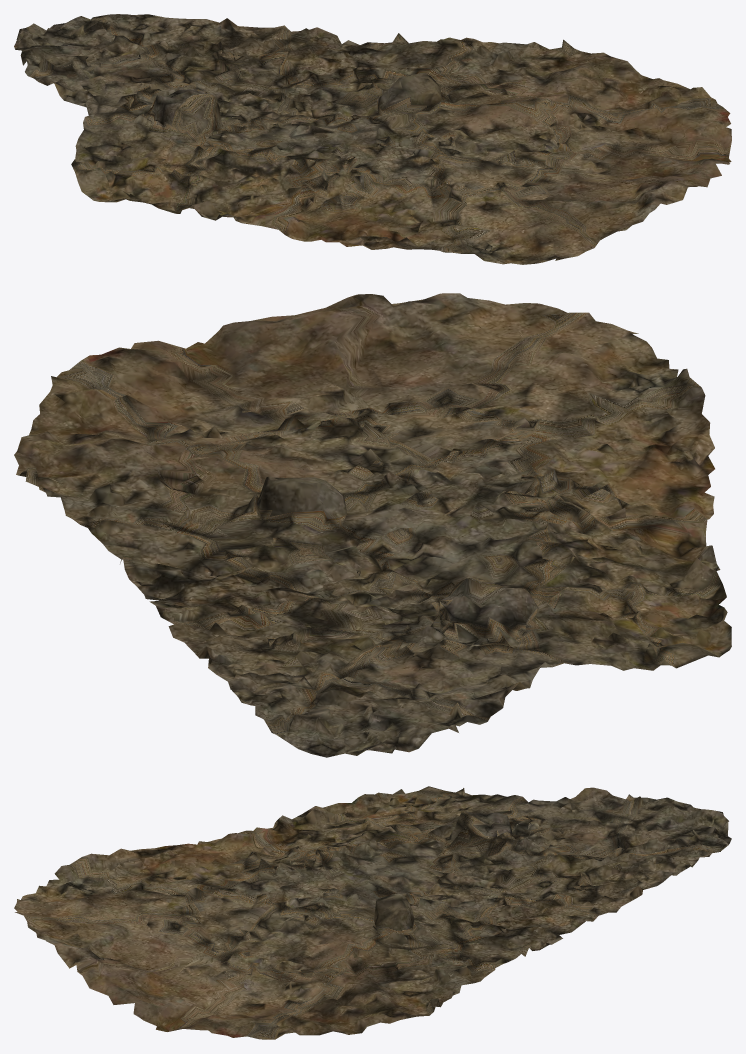
Rendered from coast_land_rocks_04.glb.
3 renders of one model, top to bottom at view 1: azimuth 30°, elevation 25°; view 2: azimuth 150°, elevation 25°; view 3: azimuth 270°, elevation 25°, orthographic. The views are drawn at different scales.
Parts seen in each view (by area): view 1: coast_land_rocks_04_LOD0; view 2: coast_land_rocks_04_LOD0; view 3: coast_land_rocks_04_LOD0.
Boxes of the visible parts, x1,y1,x2,y2 form: coast_land_rocks_04_LOD0: [14, 14, 731, 264]; coast_land_rocks_04_LOD0: [14, 293, 731, 757]; coast_land_rocks_04_LOD0: [14, 786, 731, 1039].
Bounding box in the file's own units: 9.91 × 0.8224 × 11.46.
1 material, 1 textured.
